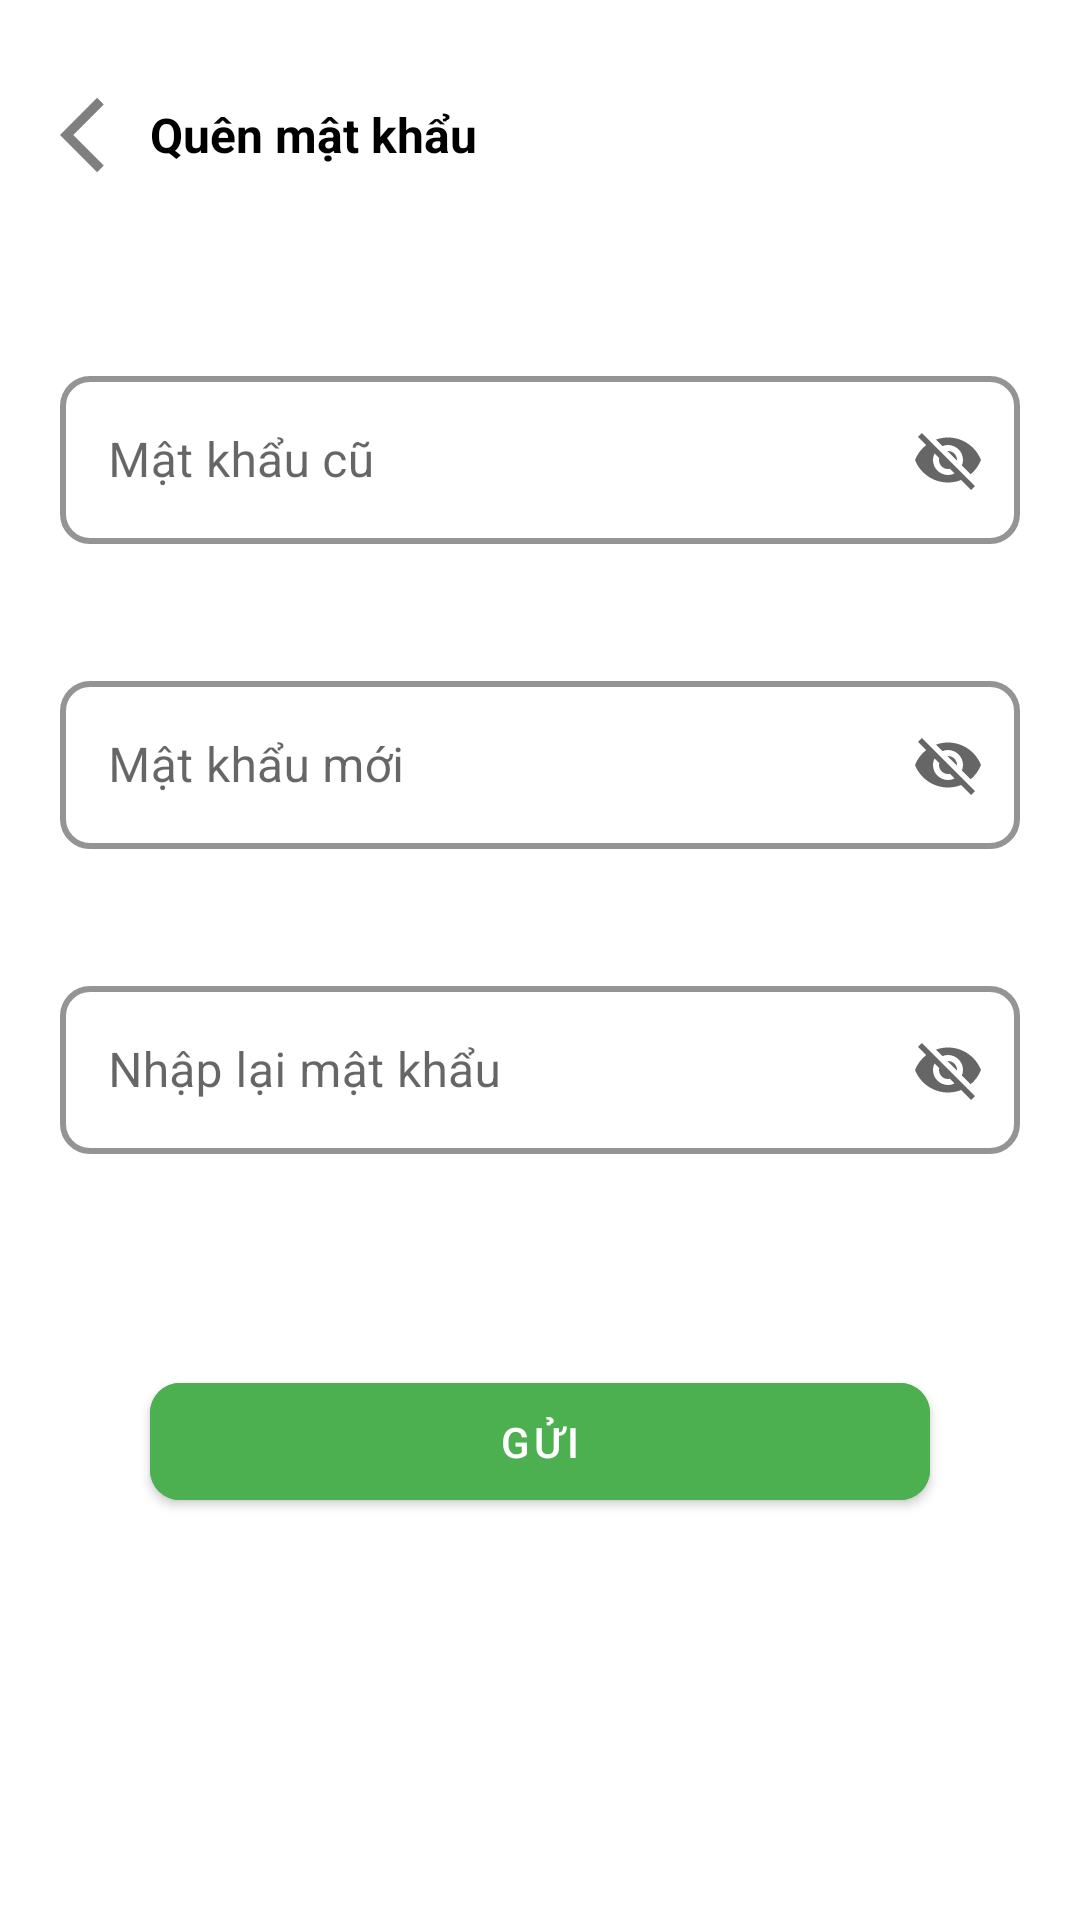

Screen size 1080x1920. Icon name, then its center in pixels as point (x, y):
back: point (82, 135)
